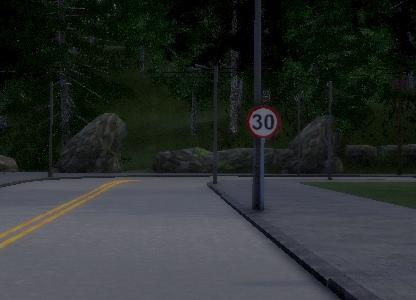Speed_30: (247, 104, 282, 140)
